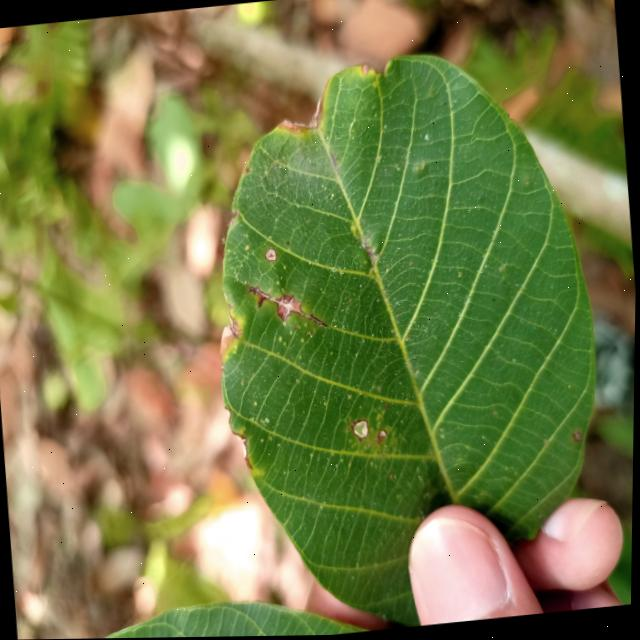Colletotrichum: (287, 241, 290, 245), (308, 301, 310, 303)
Corynespora: (248, 278, 329, 334)
Leaf-Blight: (217, 307, 245, 354), (265, 248, 277, 261)
